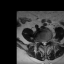CCS_stenosis: (43, 40, 45, 48)
LFS_stenosis: (47, 38, 49, 44)
LLS_normal: (45, 40, 47, 46)
RFS_severe_stenosis: (39, 39, 41, 44)
RLS_stenosis: (41, 40, 43, 46)
